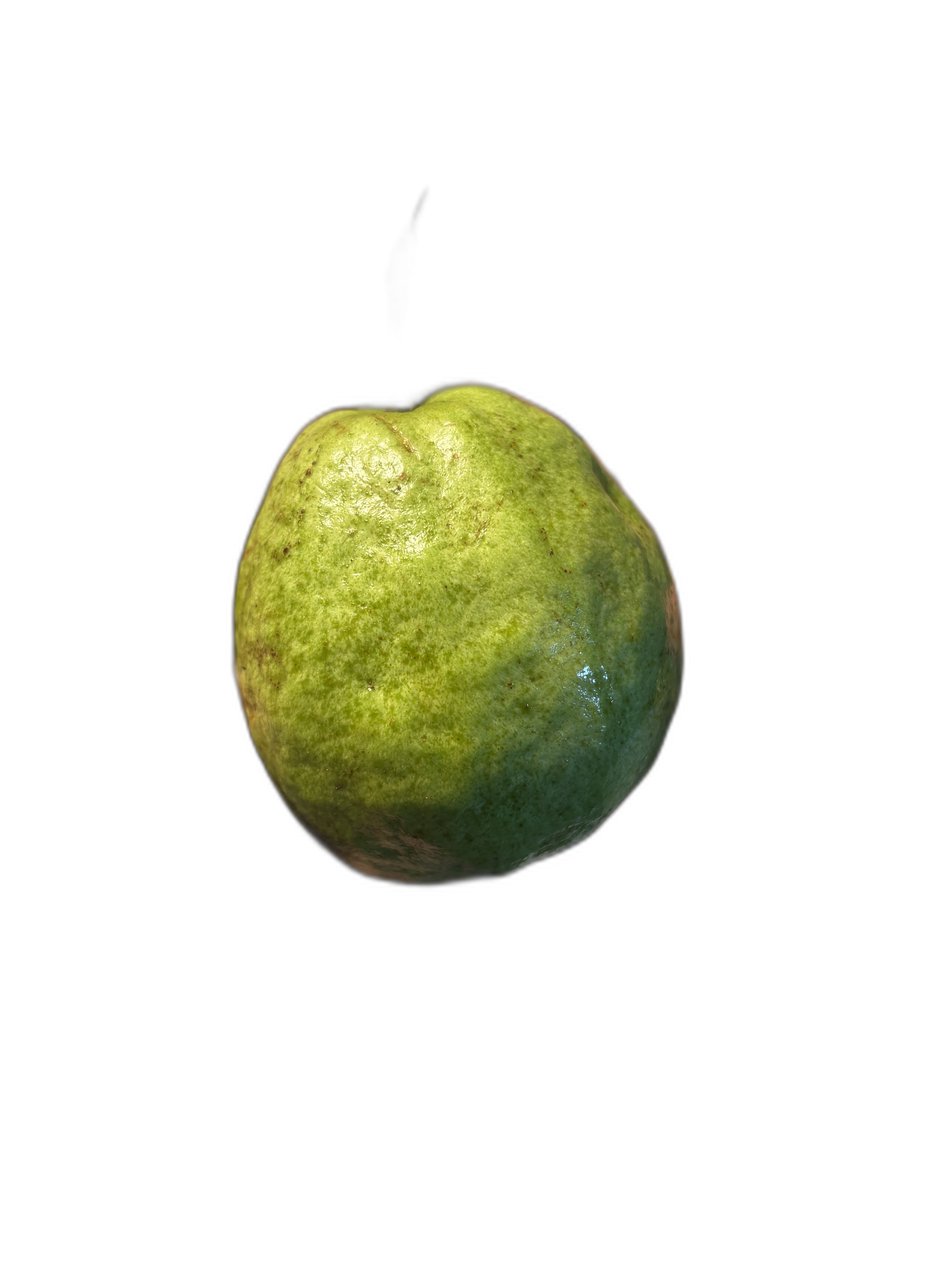guava: (40, 162, 764, 1064)
